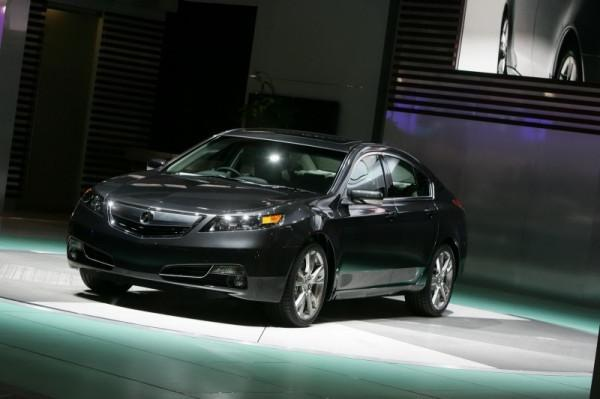Car: (56, 113, 499, 333)
